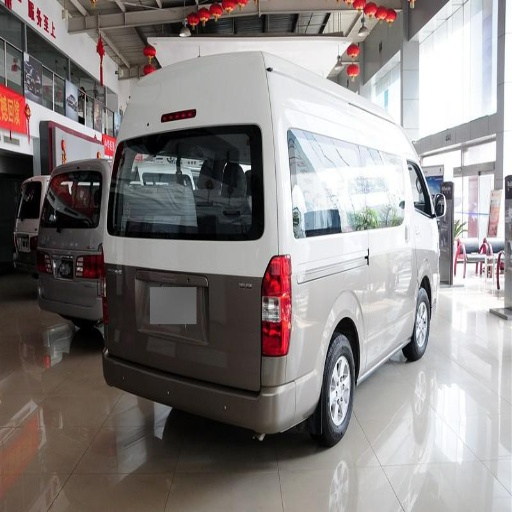back_bumper: (114, 358, 322, 433)
back_glass: (124, 132, 257, 237)
trunk: (102, 240, 399, 389)
